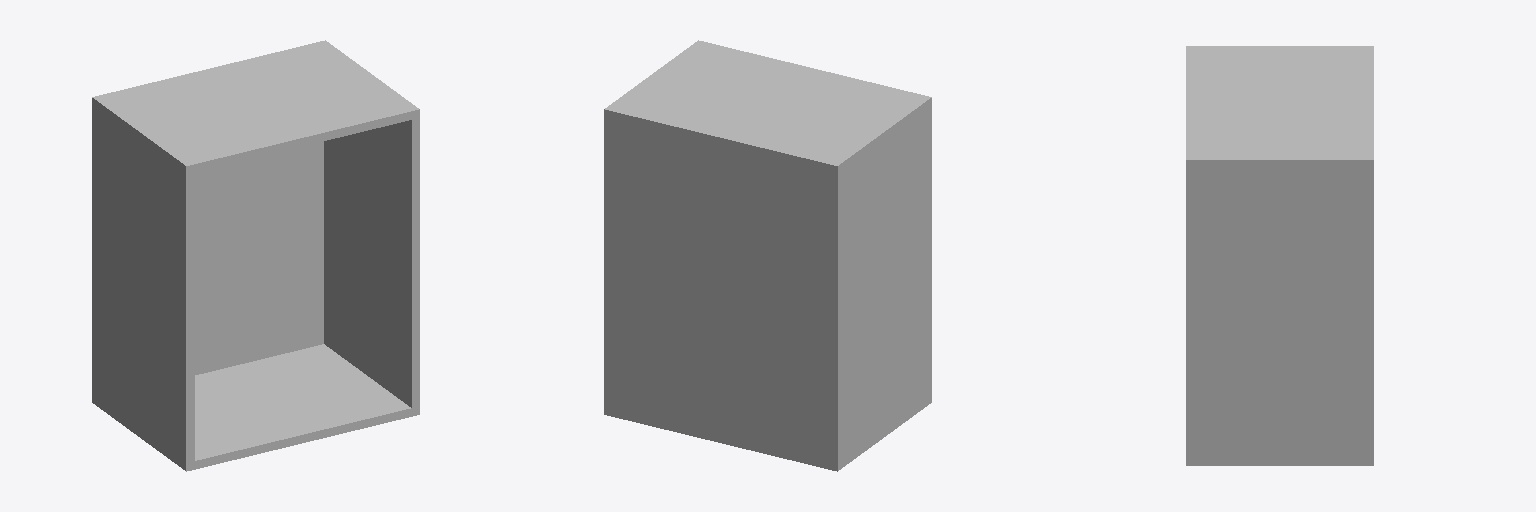
File: Wardrobe.obj
3 renders of one model, left to right at view 1: azimuth 30°, elevation 25°; view 2: azimuth 150°, elevation 25°; view 3: azimuth 270°, elevation 25°, orthographic.
Visible parts, largest first — view 1: Wardrobe; view 2: Wardrobe; view 3: Wardrobe.
Boxes of the visible parts, box(x1,y1,x2,y2) form: Wardrobe: box(92, 40, 419, 471); Wardrobe: box(604, 40, 931, 471); Wardrobe: box(1186, 46, 1373, 465).
Bounding box in the file's own units: 2 × 2.5 × 1.4.